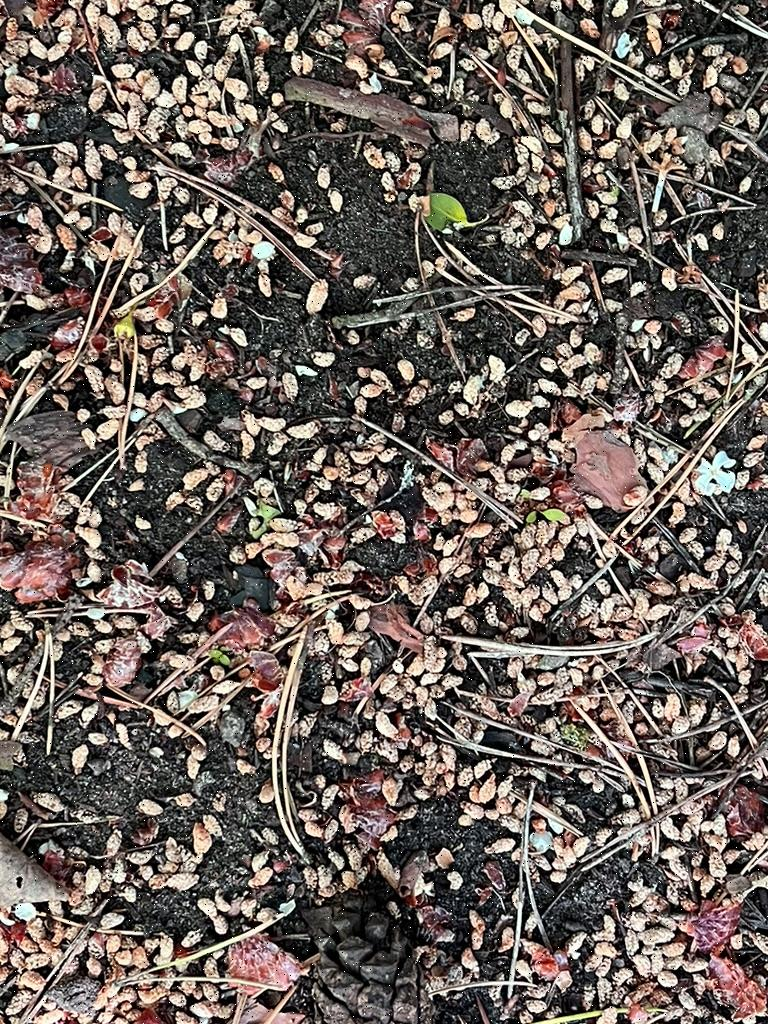pine: (296, 898, 453, 1024)
